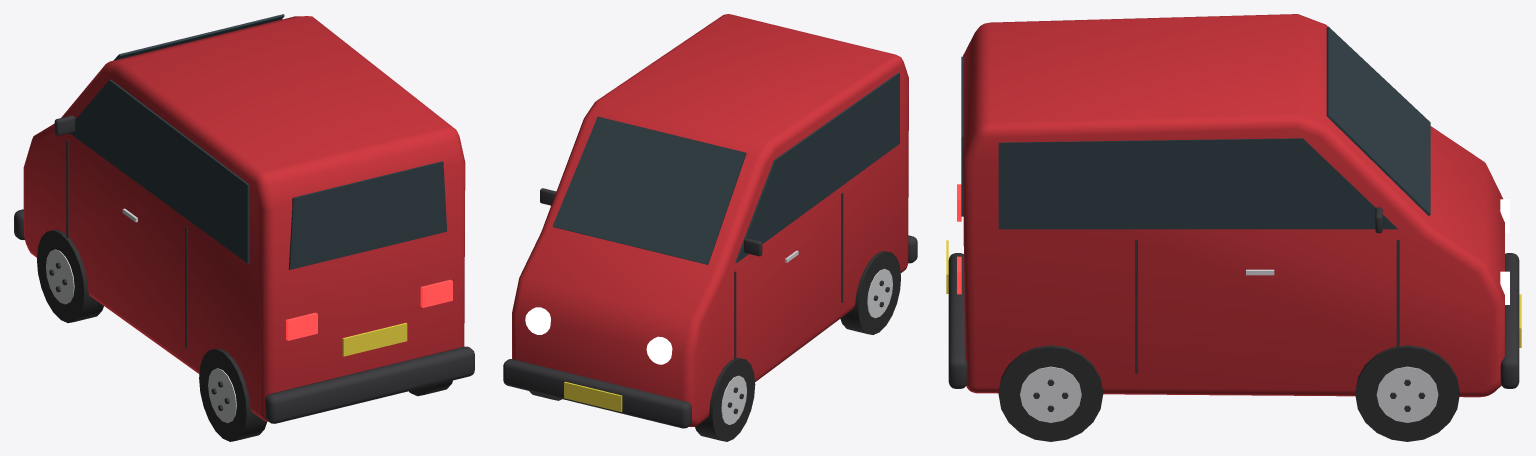
The model's file is canta.glb.
3 views of the same model, side by side, from view 1: azimuth 30°, elevation 25°; view 2: azimuth 150°, elevation 25°; view 3: azimuth 270°, elevation 25° (orthographic). The views are drawn at different scales.
Visible parts, largest first — view 1: body, wheel_rl, wheel_fl; view 2: body, wheel_rl, wheel_fl; view 3: body, wheel_rr, wheel_fr.
Boxes of the visible parts, bbox=[...] form: body: bbox=[14, 14, 474, 423]; wheel_rl: bbox=[199, 348, 266, 441]; wheel_fl: bbox=[37, 229, 103, 322]; body: bbox=[503, 14, 917, 428]; wheel_rl: bbox=[840, 251, 900, 334]; wheel_fl: bbox=[695, 357, 755, 441]; body: bbox=[946, 14, 1521, 397]; wheel_rr: bbox=[998, 345, 1103, 441]; wheel_fr: bbox=[1355, 345, 1459, 441].
Bounding box in the file's own units: 1.31 × 1.49 × 2.42.
